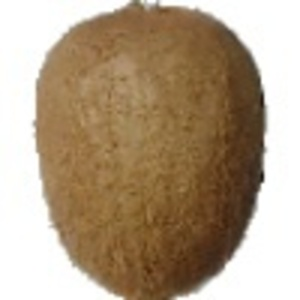kiwi: (17, 1, 268, 300)
